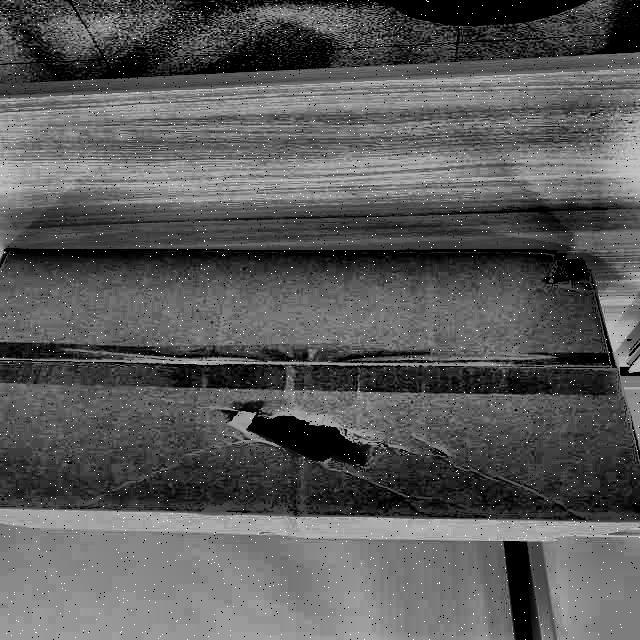box: (1, 238, 640, 554)
hole: (224, 406, 390, 480)
